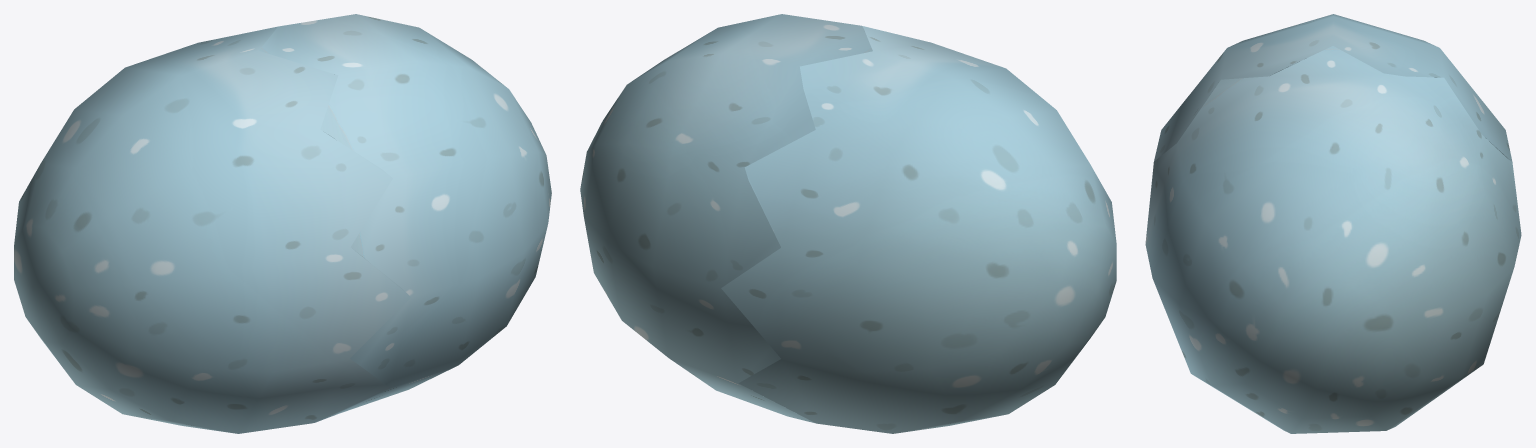
The model's file is dinoeggblue.fbx.
3 views of the same model, side by side, from view 1: azimuth 30°, elevation 25°; view 2: azimuth 150°, elevation 25°; view 3: azimuth 270°, elevation 25° (orthographic). The views are drawn at different scales.
Visible parts, largest first — view 1: pSphere26, pSphere27; view 2: pSphere26, pSphere27; view 3: pSphere27, pSphere26.
Boxes of the visible parts, x1=… form: pSphere26: x1=14, y1=26, x2=410, y2=433; pSphere27: x1=259, y1=14, x2=551, y2=422; pSphere26: x1=721, y1=26, x2=1116, y2=433; pSphere27: x1=580, y1=14, x2=872, y2=423; pSphere27: x1=1145, y1=46, x2=1521, y2=433; pSphere26: x1=1146, y1=14, x2=1512, y2=234.
Size of the model in its own units: 2.83 by 1.97 by 1.98.
1 material, 1 textured.
